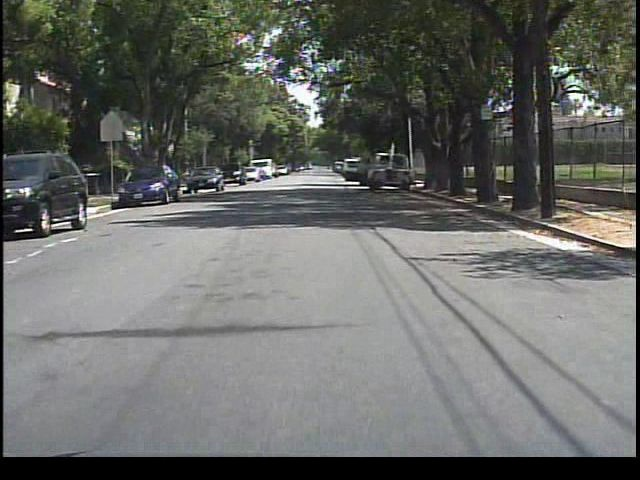person: (356, 160, 371, 188)
